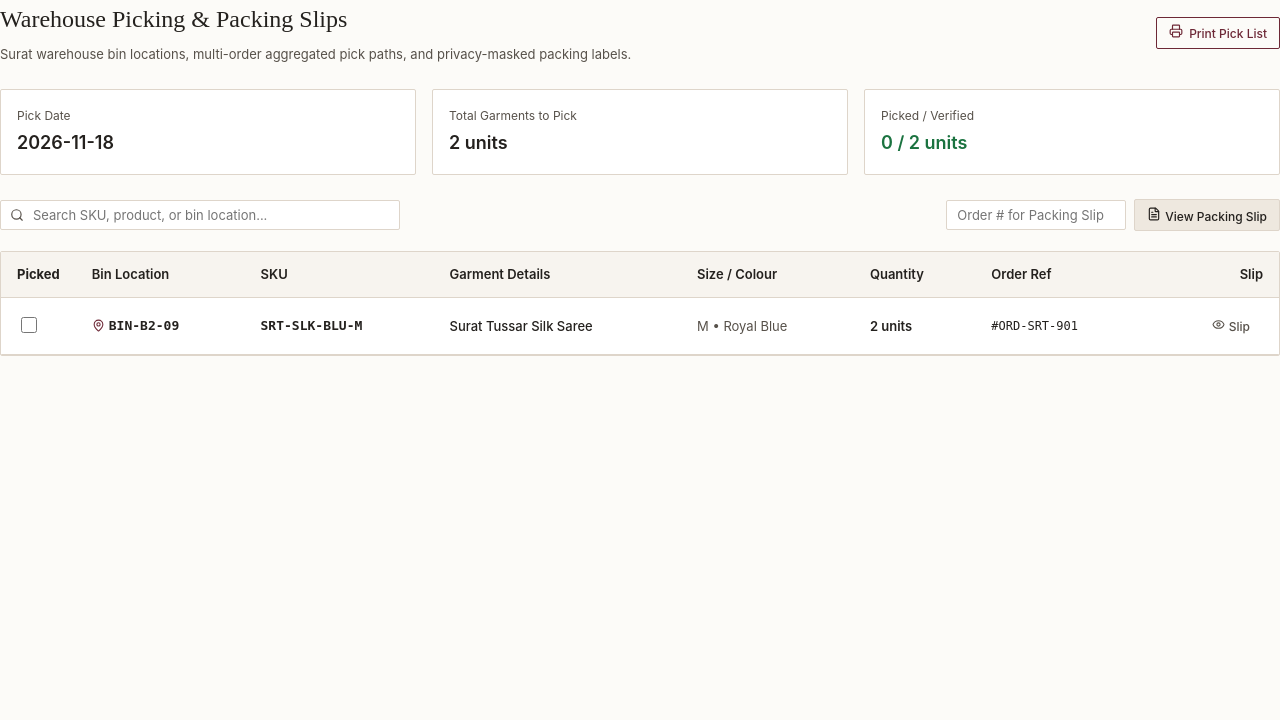
Test: Component 15 — End-to-End Quality, Performance, Security & Role Verification › 2. Manager Operational Fulfillment & Warehouse Invariants › 2.2 Combined picking list & packing slip strictly masks customer phone (98765****0)
The image size is (1280, 720).
Expected: the text "SRT-SLK-BLU-M" is shown, [260,318,362,333]
Open Packing Slip
Click the button "Slip": [1231, 326] box [1199,310,1263,342]
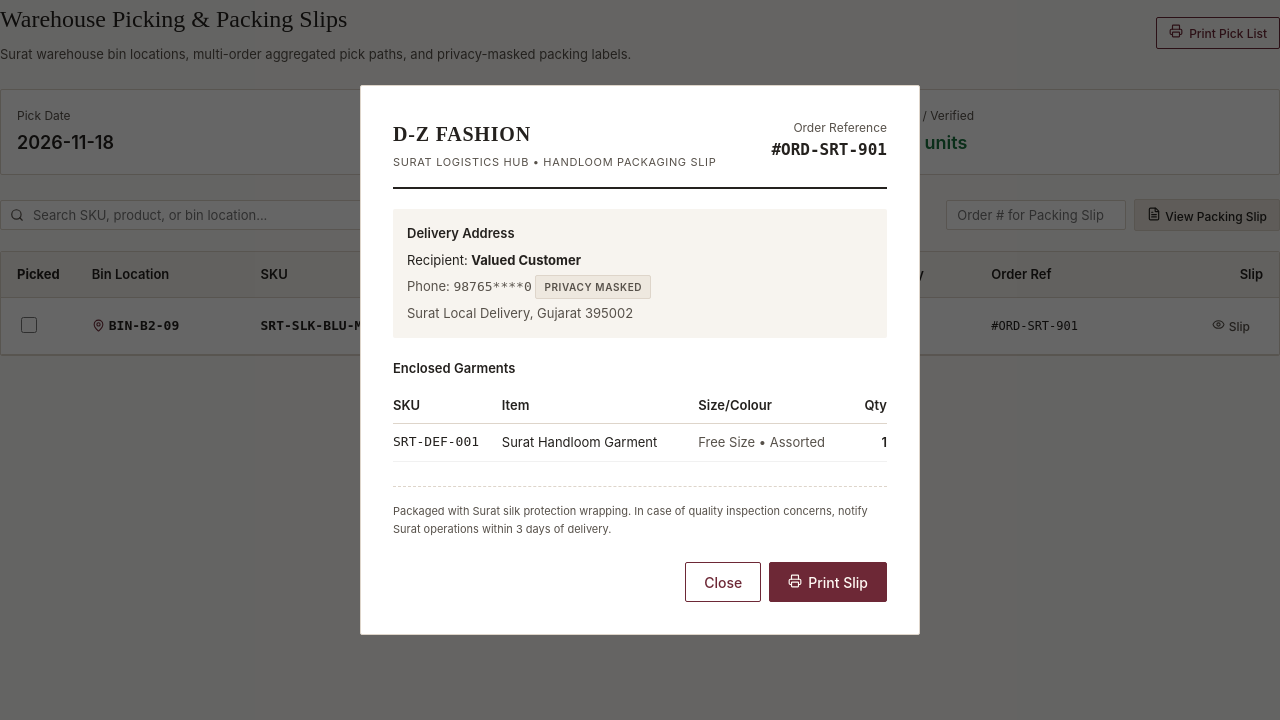
Expected: the text "98765****0" is shown, [454,279,532,294]
Expected: the text "Privacy Masked" is shown, [544,279,642,295]
